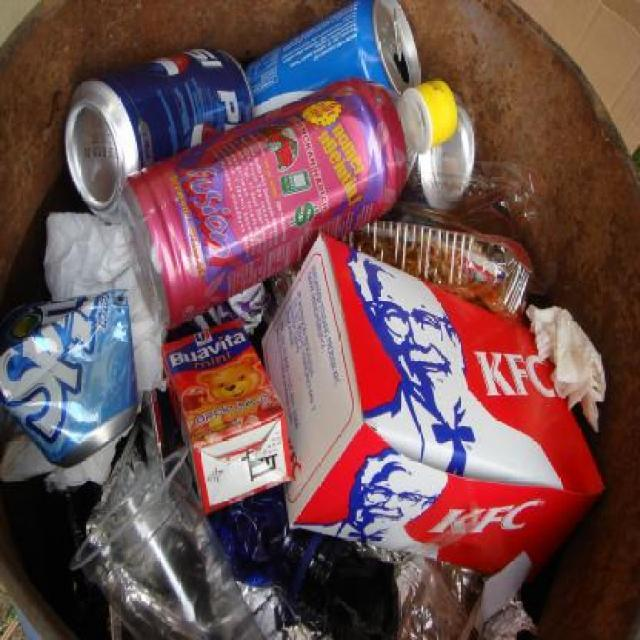garbage: (20, 11, 570, 598)
